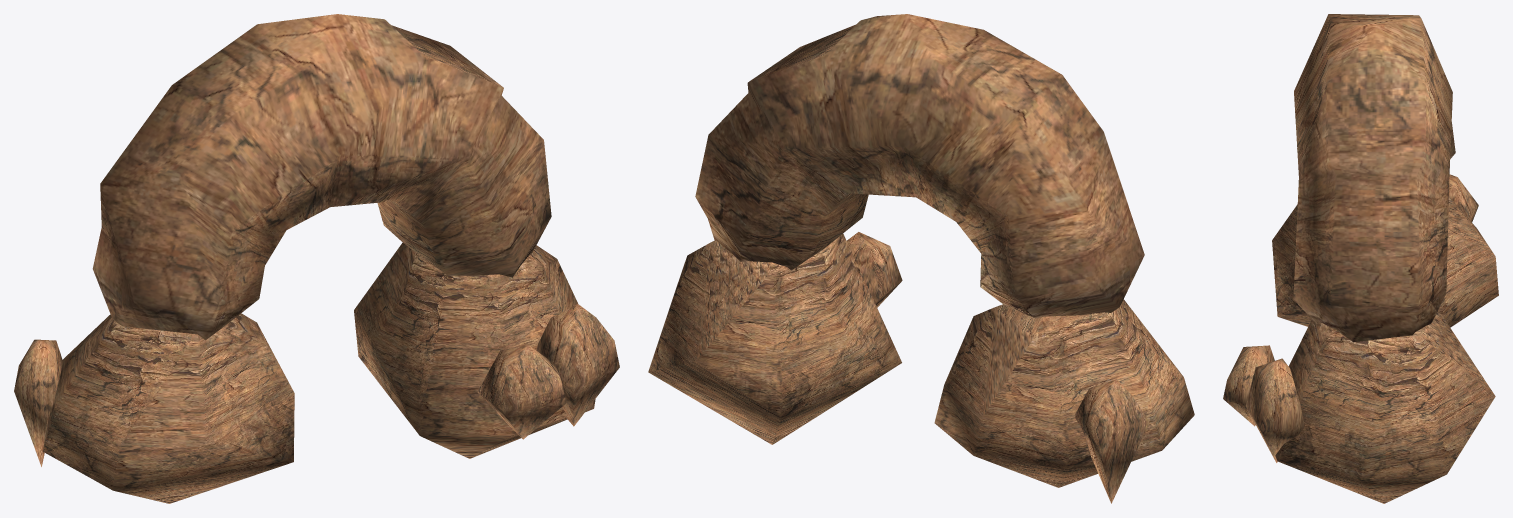
File: rock_tatt_arch_sm_l3.fbx
3 renders of one model, left to right at view 1: azimuth 30°, elevation 25°; view 2: azimuth 150°, elevation 25°; view 3: azimuth 270°, elevation 25°, orthographic. The views are drawn at different scales.
Visible parts, largest first — view 1: mesh_node; view 2: mesh_node; view 3: mesh_node.
Boxes of the visible parts, x1,y1,x2,y2 form: mesh_node: (14,14,619,503); mesh_node: (648,14,1194,503); mesh_node: (1223,14,1498,503).
Bounding box in the file's own units: 46.24 × 39.05 × 23.32.
